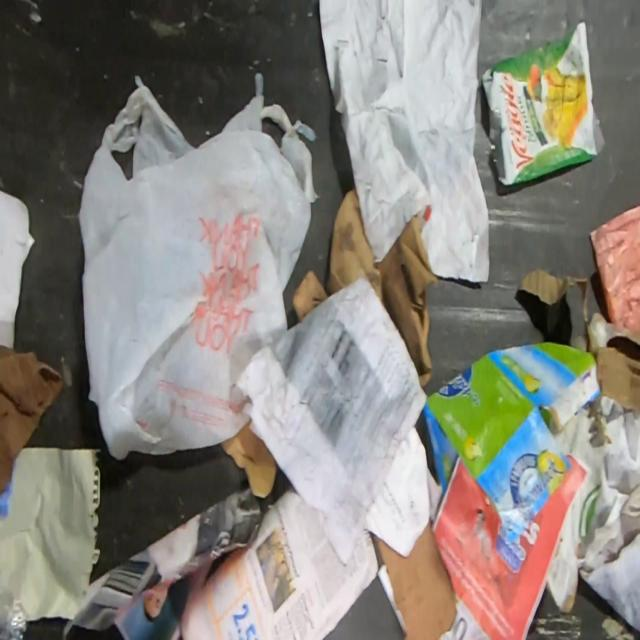cardboard: (422, 342, 599, 544), (292, 187, 435, 385), (518, 266, 640, 417), (1, 344, 64, 499), (375, 519, 456, 639)
rigid_plastic: (0, 580, 27, 639)
soft_plastic: (78, 73, 315, 461), (482, 18, 601, 188), (589, 205, 639, 331)
